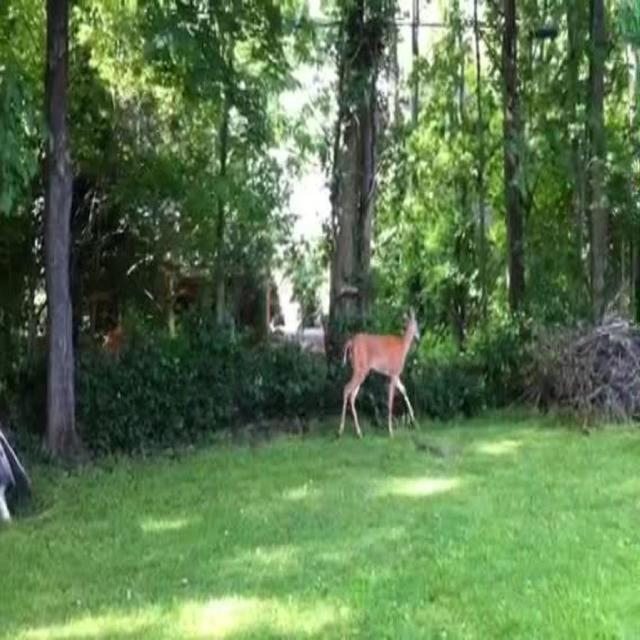Deer: (339, 310, 417, 454)
